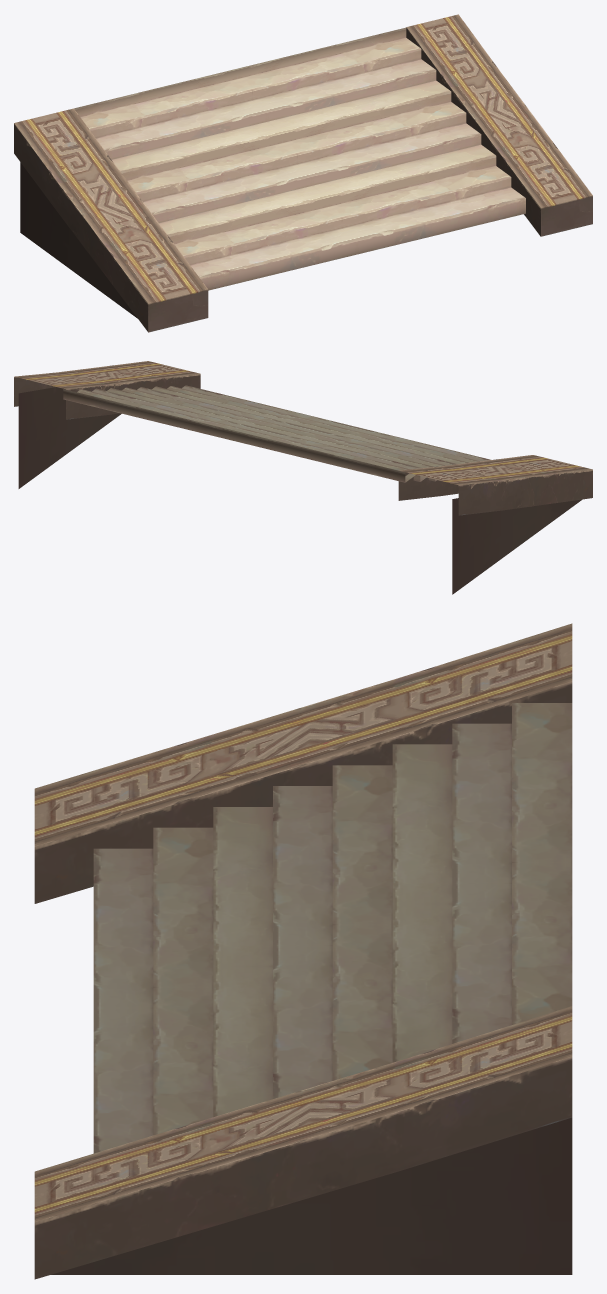
File: fb_jjc_zj_07_e.FBX
The picture shows the model from 3 angles, top to bottom: view 1: azimuth 30°, elevation 25°; view 2: azimuth 150°, elevation 25°; view 3: azimuth 270°, elevation 25°; orthographic projection. The views are drawn at different scales.
Parts seen in each view (by area): view 1: fb_jjc_zj_07_e; view 2: fb_jjc_zj_07_e; view 3: fb_jjc_zj_07_e.
Boxes of the visible parts, bbox=[...] form: fb_jjc_zj_07_e: bbox=[14, 14, 592, 332]; fb_jjc_zj_07_e: bbox=[14, 361, 592, 594]; fb_jjc_zj_07_e: bbox=[34, 623, 572, 1279].
Size of the model in its own units: 1318 by 316 by 690.
